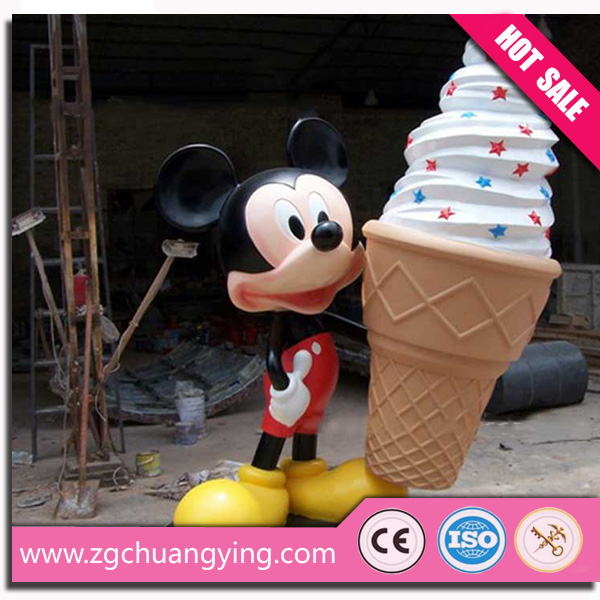Mickey: (159, 117, 364, 317)
